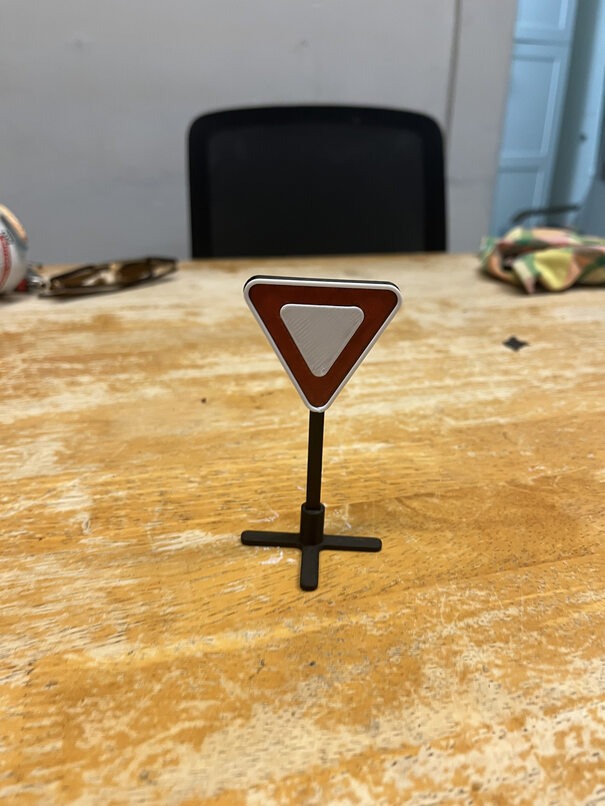sign_yield: (239, 272, 406, 416)
